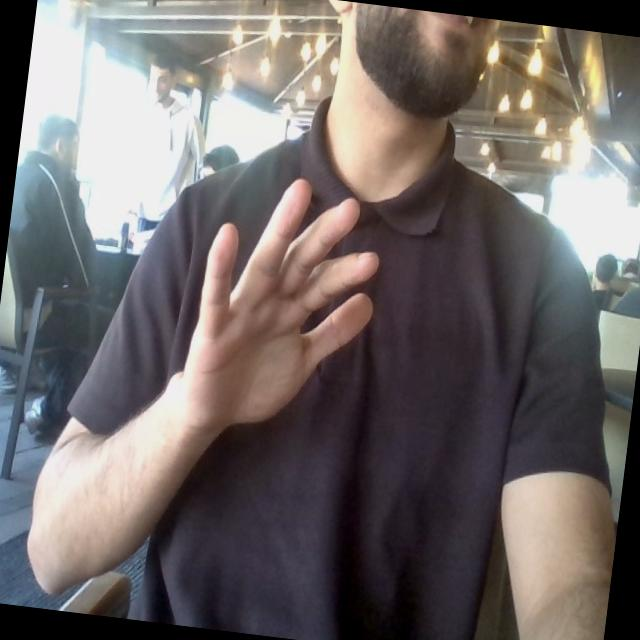Hand: (180, 180, 378, 432)
